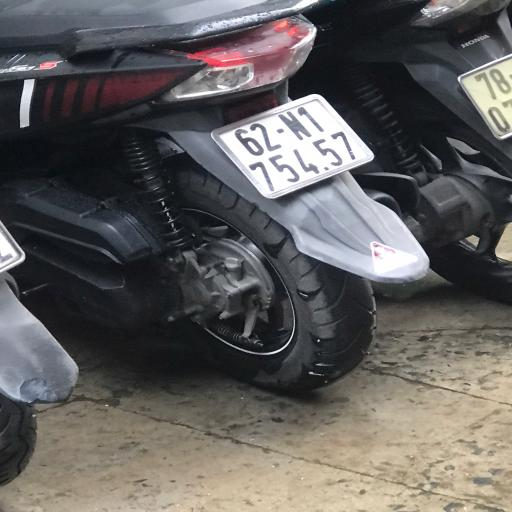1: (297, 105, 334, 133)
2: (252, 118, 286, 158)
4: (294, 138, 324, 184)
5: (264, 149, 300, 187), (314, 137, 348, 170)
6: (225, 126, 267, 162)
7: (236, 158, 279, 199), (331, 130, 371, 166)
N: (280, 109, 318, 149)
